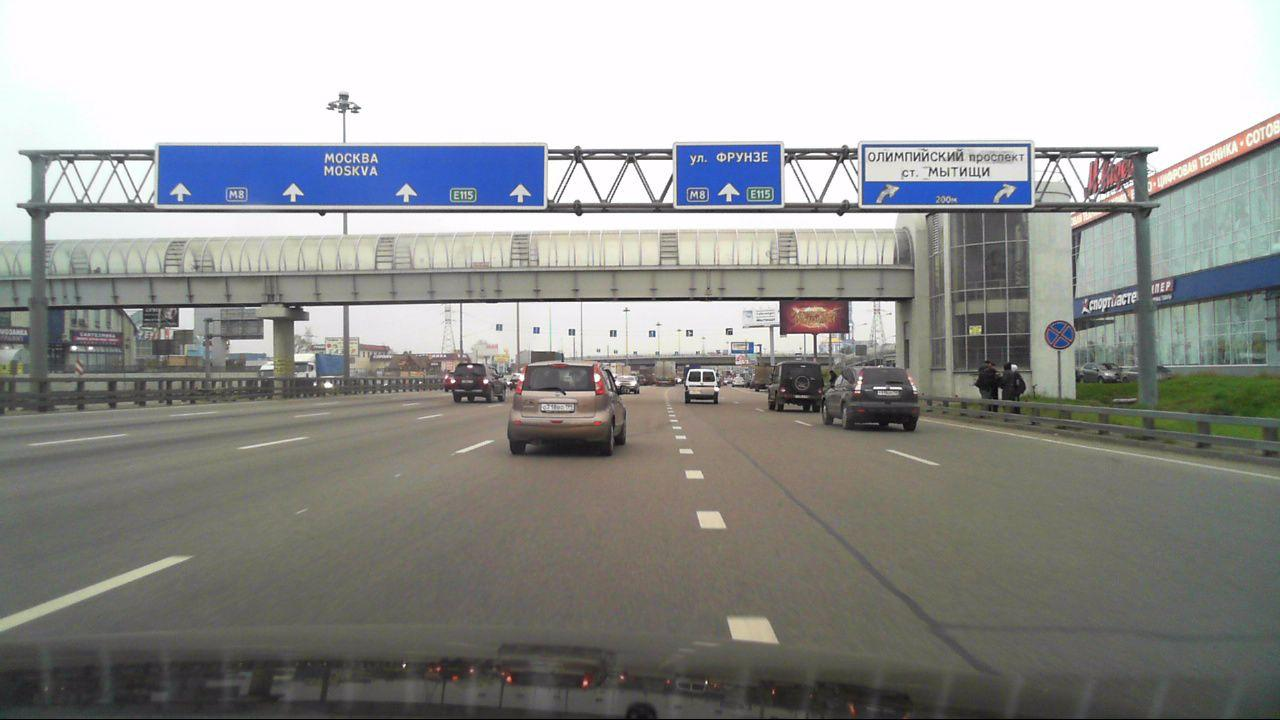3_27: (1044, 320, 1075, 349)
5_15_2: (724, 326, 734, 336), (567, 328, 575, 336), (648, 330, 656, 337), (610, 330, 617, 337), (686, 329, 693, 336), (496, 324, 503, 330), (533, 327, 539, 333)
